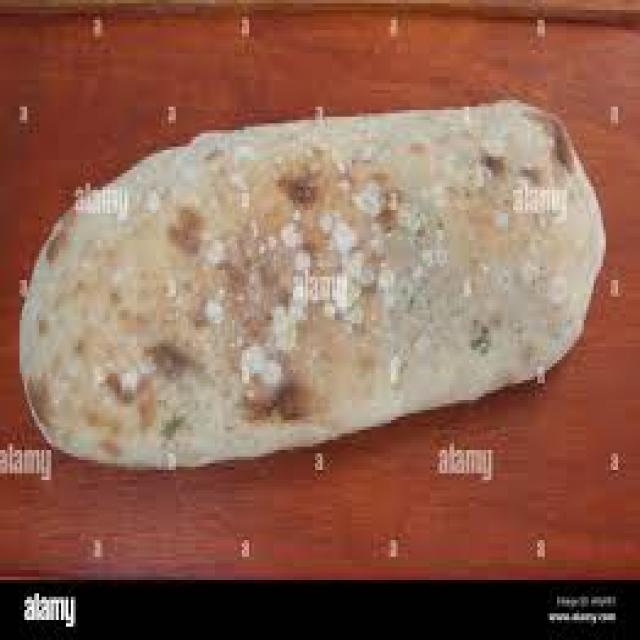Wet Waste: (17, 91, 604, 480)
